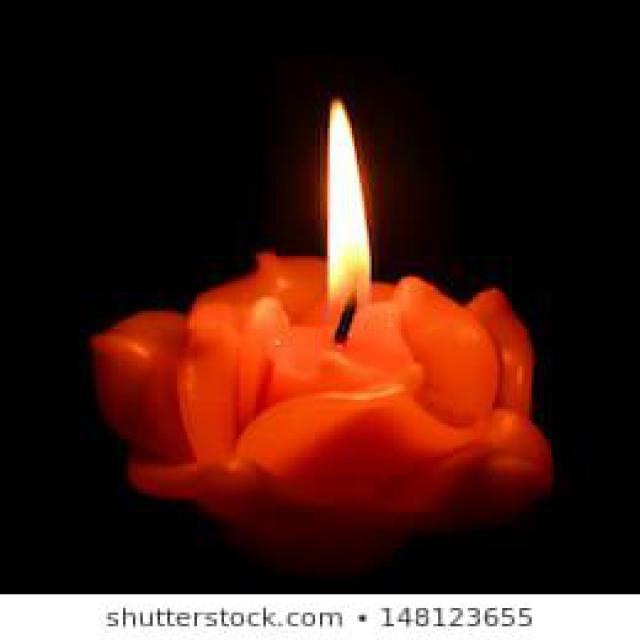Fire: (326, 97, 371, 312)
